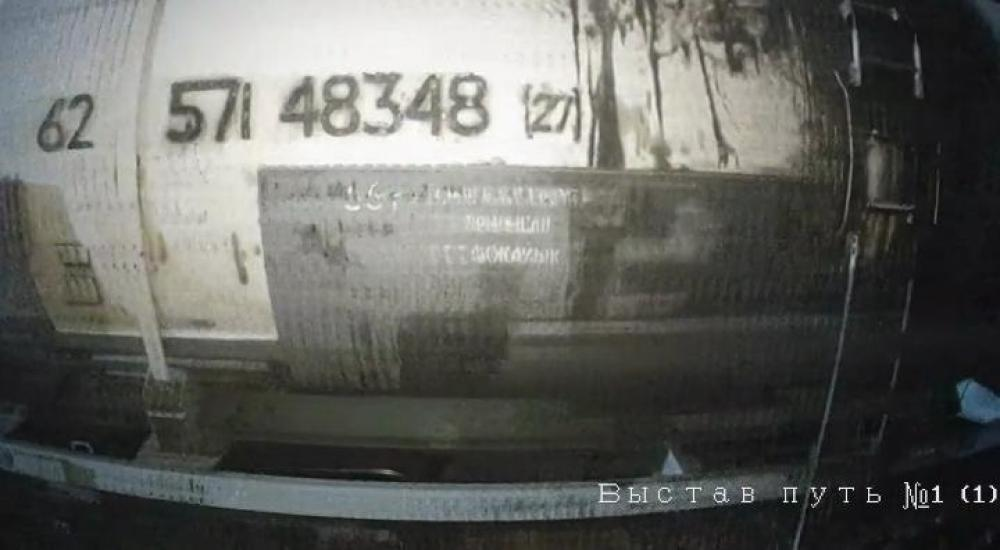Wagon-number: (163, 71, 496, 147)
